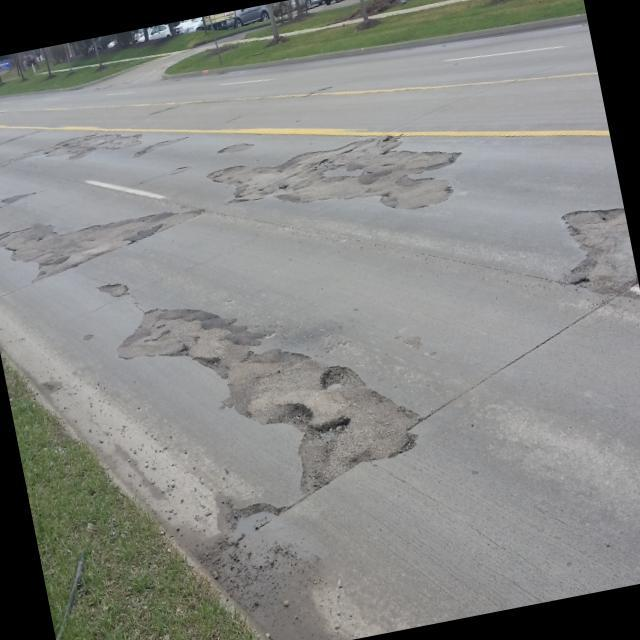Pothole: (225, 485, 284, 548), (262, 389, 316, 431), (307, 405, 358, 445), (315, 357, 354, 398), (193, 350, 226, 377), (379, 124, 405, 150), (568, 272, 592, 296)
